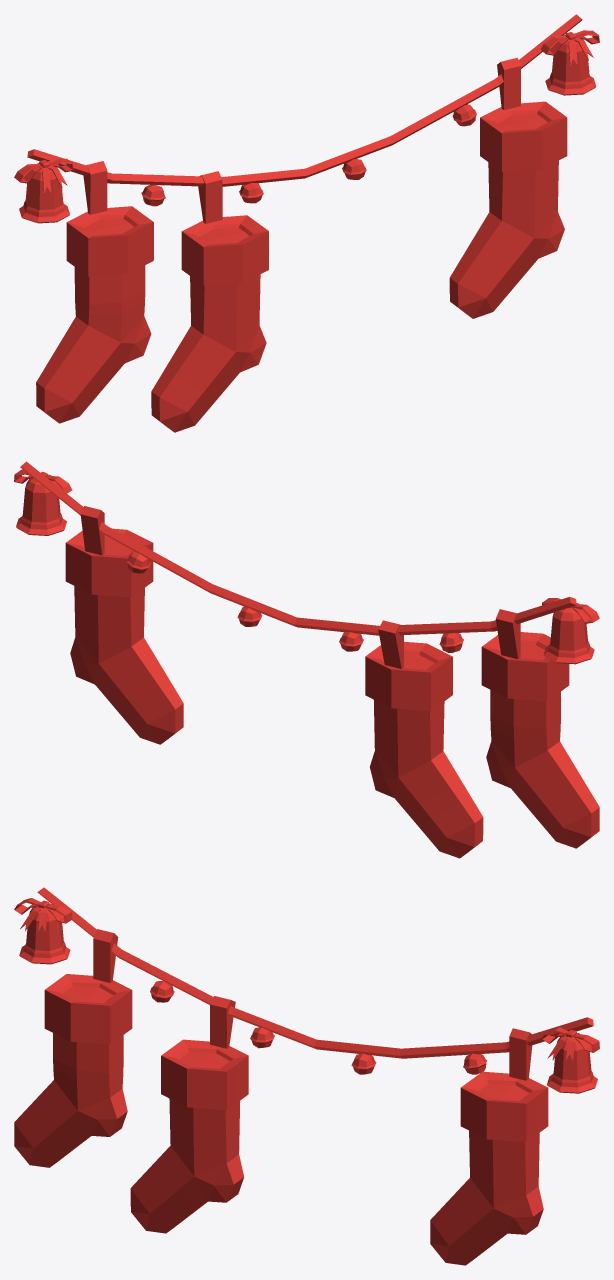
Rendered from SM_Christmas_Stockings.fbx.
3 renders of one model, top to bottom at view 1: azimuth 30°, elevation 25°; view 2: azimuth 150°, elevation 25°; view 3: azimuth 330°, elevation 25°, orthographic.
Parts seen in each view (by area): view 1: christmas-stockings; view 2: christmas-stockings; view 3: christmas-stockings.
Boxes of the visible parts, x1,y1,x2,y2 form: christmas-stockings: (14,14,599,432); christmas-stockings: (14,461,599,858); christmas-stockings: (14,887,599,1265).
Bounding box in the file's own units: 1.23 × 0.6131 × 0.1553.
